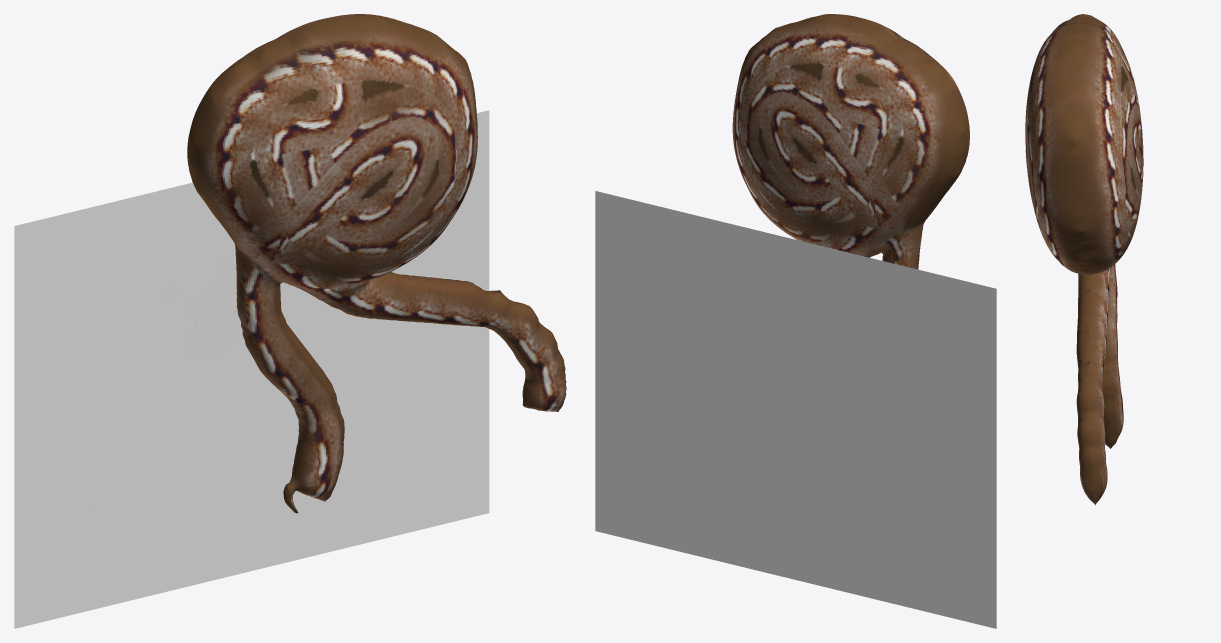
File: rope.fbx
The picture shows the model from 3 angles, left to right: view 1: azimuth 30°, elevation 25°; view 2: azimuth 150°, elevation 25°; view 3: azimuth 270°, elevation 25°; orthographic projection. The views are drawn at different scales.
Parts seen in each view (by area): view 1: root (×3); view 2: root (×2); view 3: root.
Part boxes in pixels (x1,y1,x2,y2): root (×3): (14,14,566,628); root (×2): (595,14,996,628); root: (1025,14,1143,505).
Size of the model in its own units: 0.7067 by 0.8432 by 0.2761.
3 materials, 3 textured.
